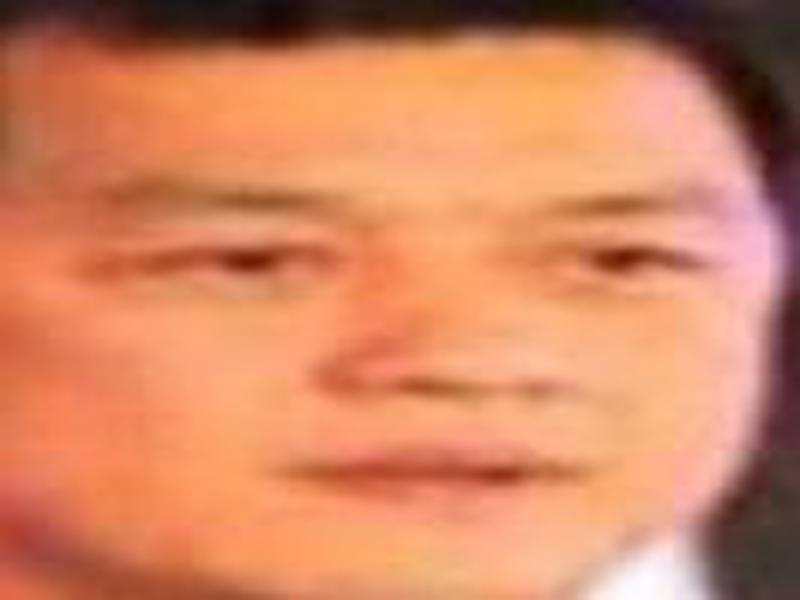without_mask: (31, 33, 780, 600)
